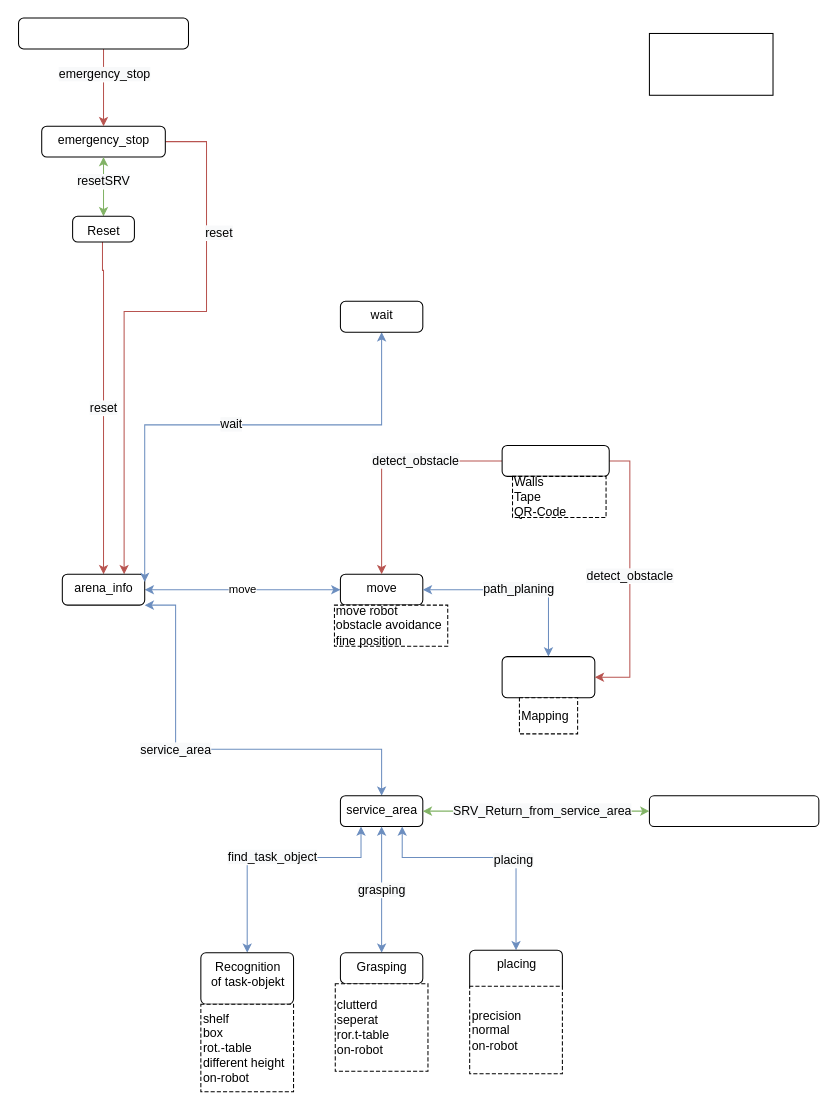
This 836x1110 diagram has some shape labels left out. Each missing label, with the centre of its shape:
detect obstacle: pixel 555 460
emergency_stop_pressed: pixel 103 33
Path-planing: pixel 548 677
publish/subscribe Service Action: pixel 710 63
return_from_service_area: pixel 733 811
